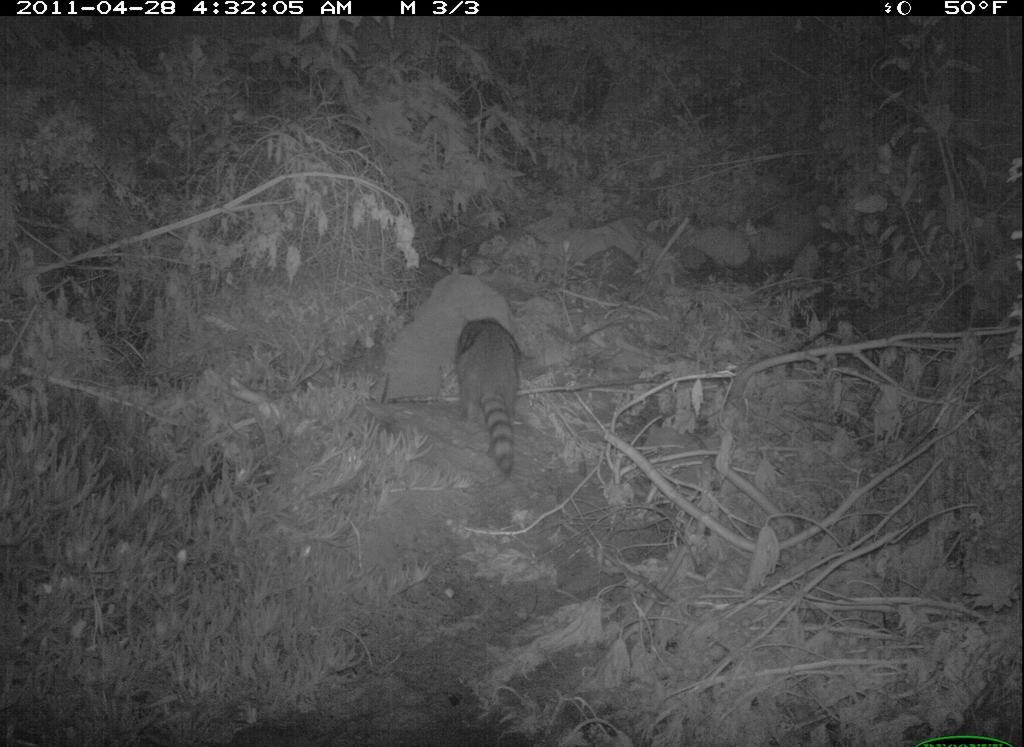raccoon: (454, 308, 545, 492)
